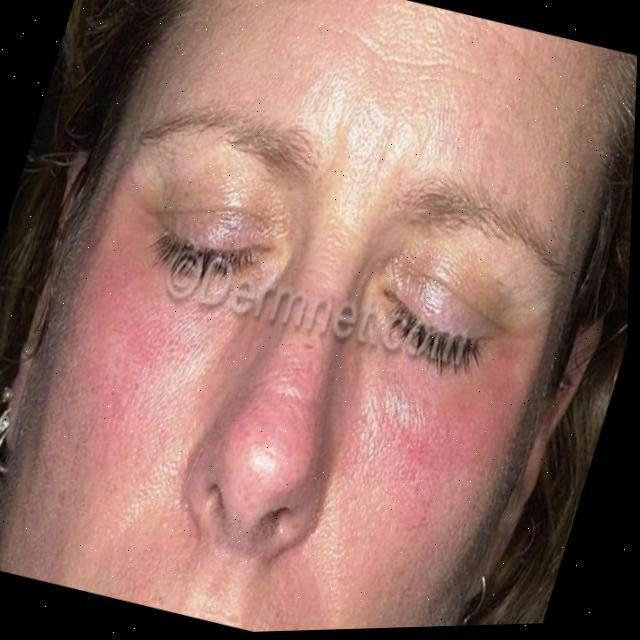Eczema: (36, 188, 539, 524)
